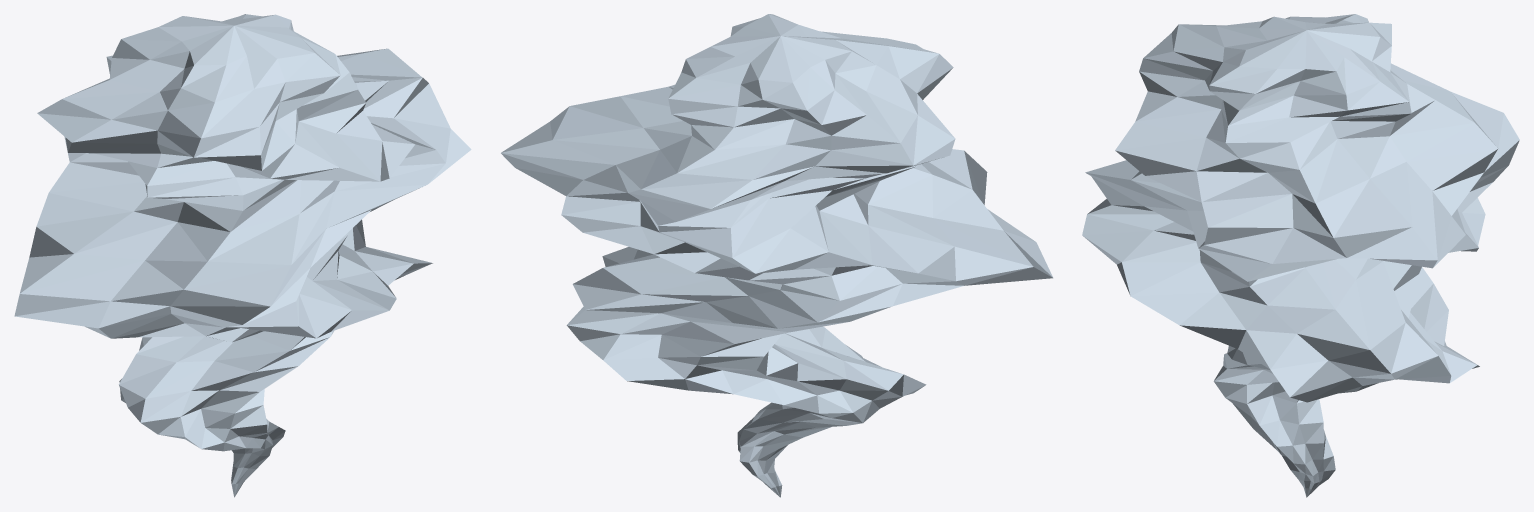
Rendered from Xiangling_GuobaBreath_ThreeTargets_GuobaJet_29_0_Core.fbx.
3 views of the same model, side by side, from view 1: azimuth 30°, elevation 25°; view 2: azimuth 150°, elevation 25°; view 3: azimuth 270°, elevation 25° (orthographic). The views are drawn at different scales.
Parts seen in each view (by area): view 1: PART_GuobaJet_29_0_Core; view 2: PART_GuobaJet_29_0_Core; view 3: PART_GuobaJet_29_0_Core.
Boxes of the visible parts, bbox=[...] form: PART_GuobaJet_29_0_Core: bbox=[14, 14, 471, 497]; PART_GuobaJet_29_0_Core: bbox=[501, 14, 1053, 497]; PART_GuobaJet_29_0_Core: bbox=[1082, 14, 1519, 497].
Bounding box in the file's own units: 104 × 100 × 84.84.
